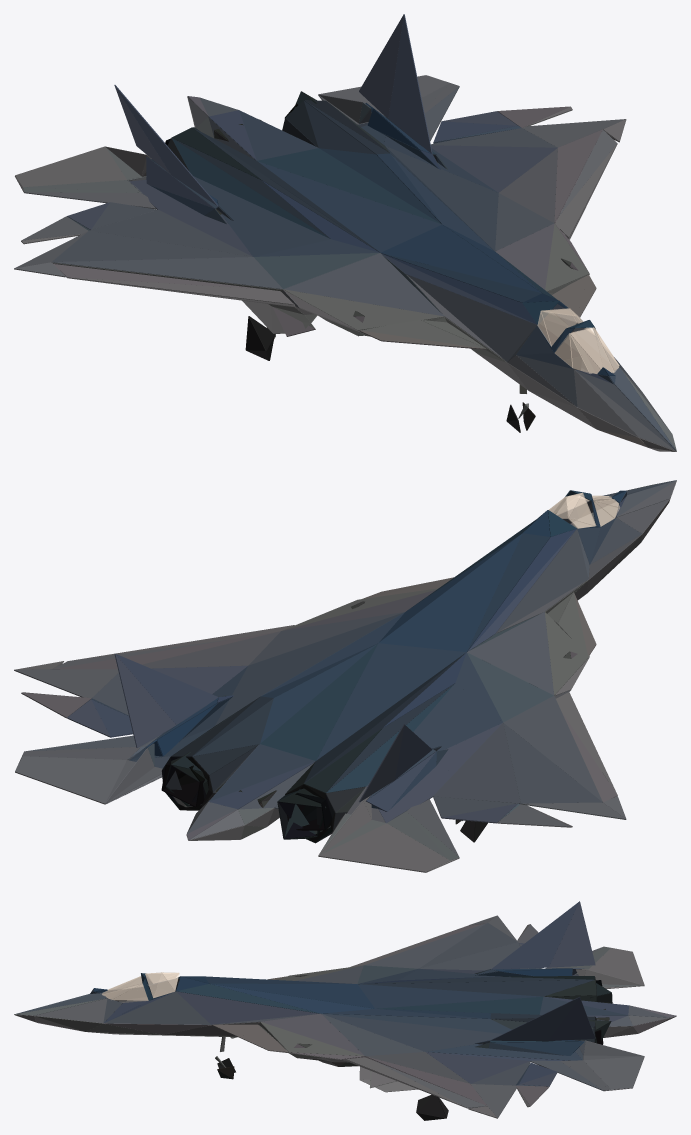
The picture shows the model from 3 angles, top to bottom: view 1: azimuth 30°, elevation 25°; view 2: azimuth 150°, elevation 25°; view 3: azimuth 270°, elevation 25°; orthographic projection. The views are drawn at different scales.
Visible parts, largest first — view 1: Structure blocks, Glass blocks; view 2: Structure blocks, Glass blocks; view 3: Structure blocks, Glass blocks.
Boxes of the visible parts, x1,y1,x2,y2 form: Structure blocks: (14, 14, 676, 451); Glass blocks: (537, 308, 619, 374); Structure blocks: (14, 480, 676, 872); Glass blocks: (549, 492, 620, 528); Structure blocks: (14, 901, 676, 1120); Glass blocks: (102, 972, 179, 1000).
Bounding box in the file's own units: 21.77 × 6.88 × 30.08.
